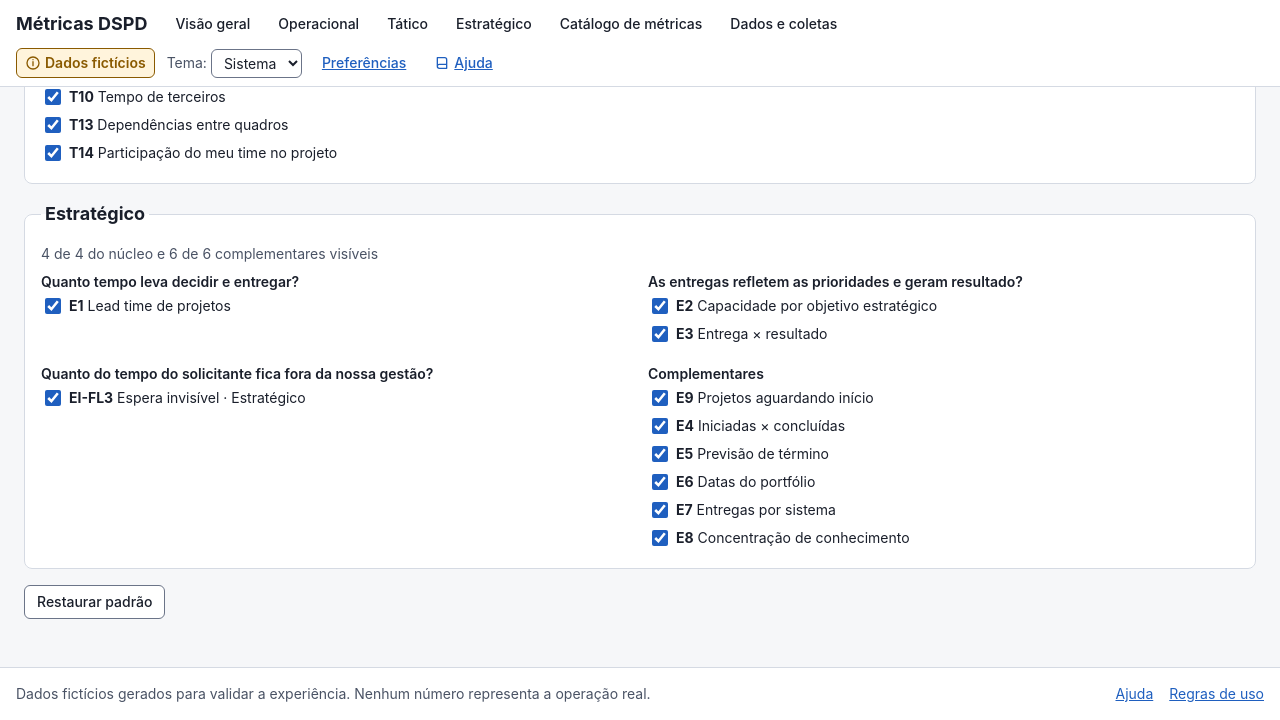
Test case: perfil /preferencias › "Restaurar padrão" pede confirmação nomeando as métricas; cancelar não muda nada
(page scrolled)
Click the button "Restaurar padrão". click: (95, 602)
box: [24,585,166,619]
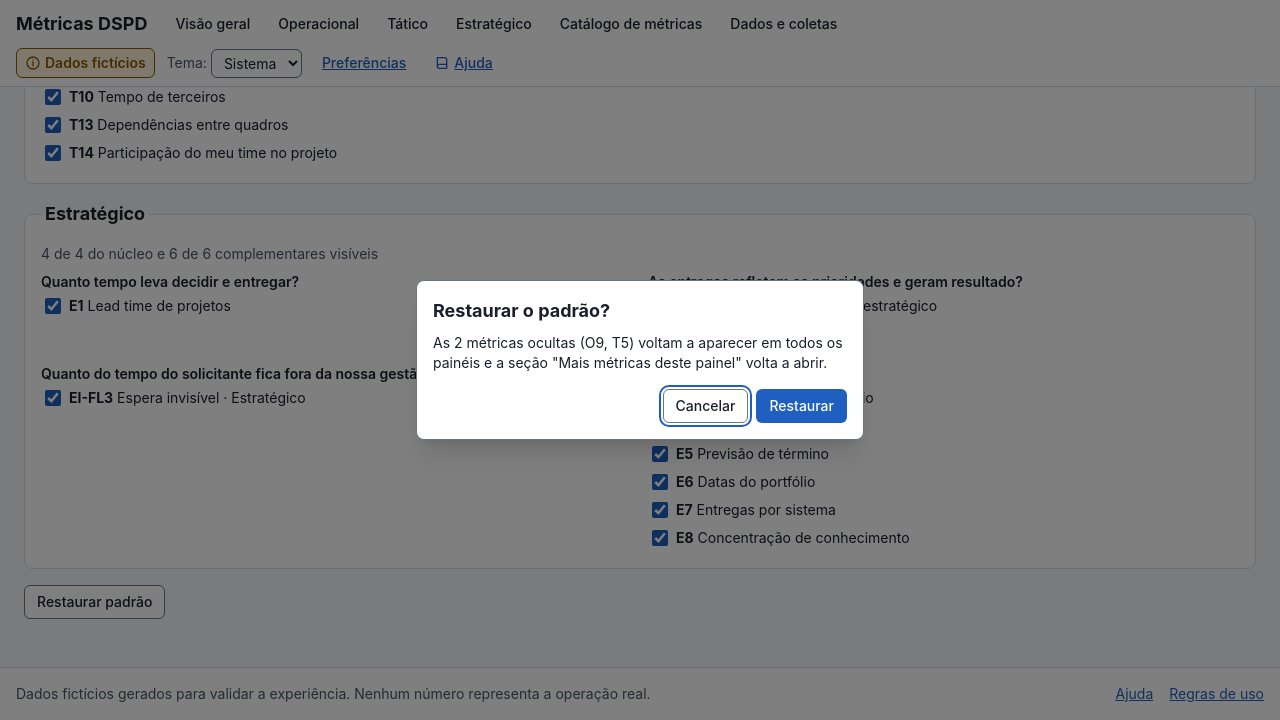
Expected: the dialog "Restaurar o padrão?" shows "As 2 métricas ocultas (O9, T5) voltam a aparecer em todos os painéis e a seção \"Mais métricas deste painel\" volta a abrir.", [416,280,864,440]
Click the button "Cancelar". click: (706, 406)
box: [663,389,748,423]
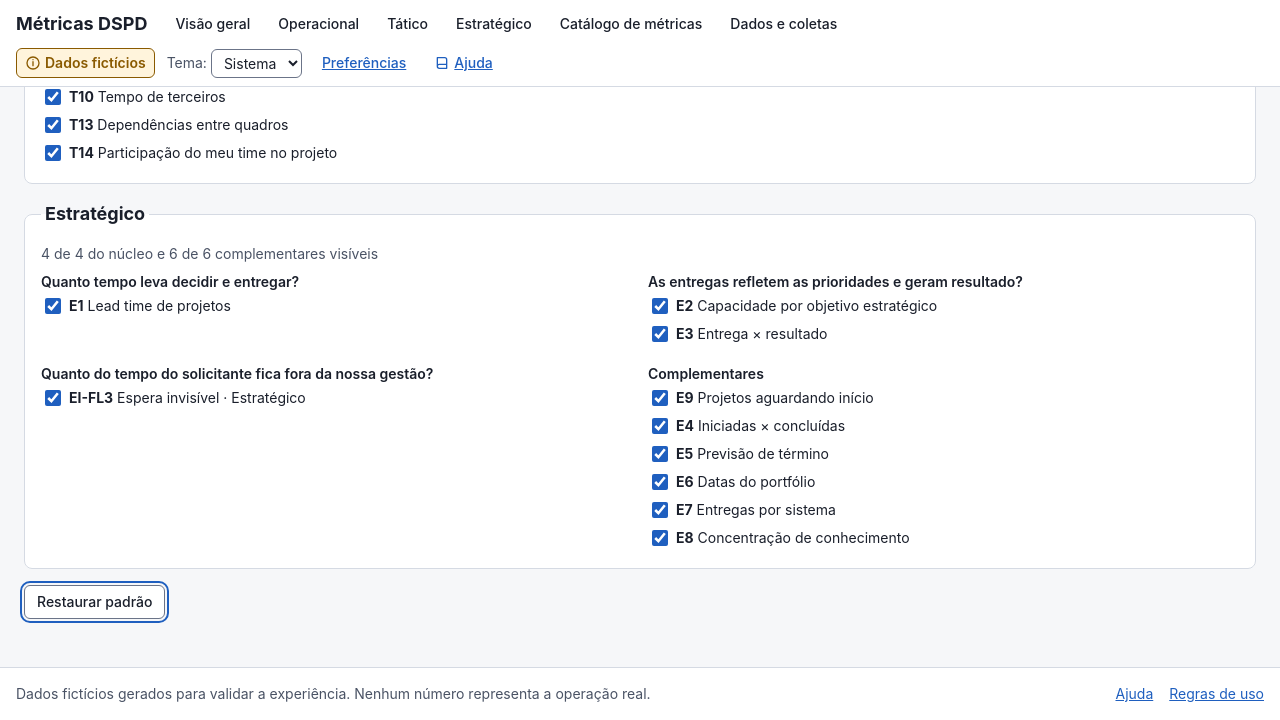
Click the button "Restaurar padrão". click: (95, 602)
box: [24,585,166,619]
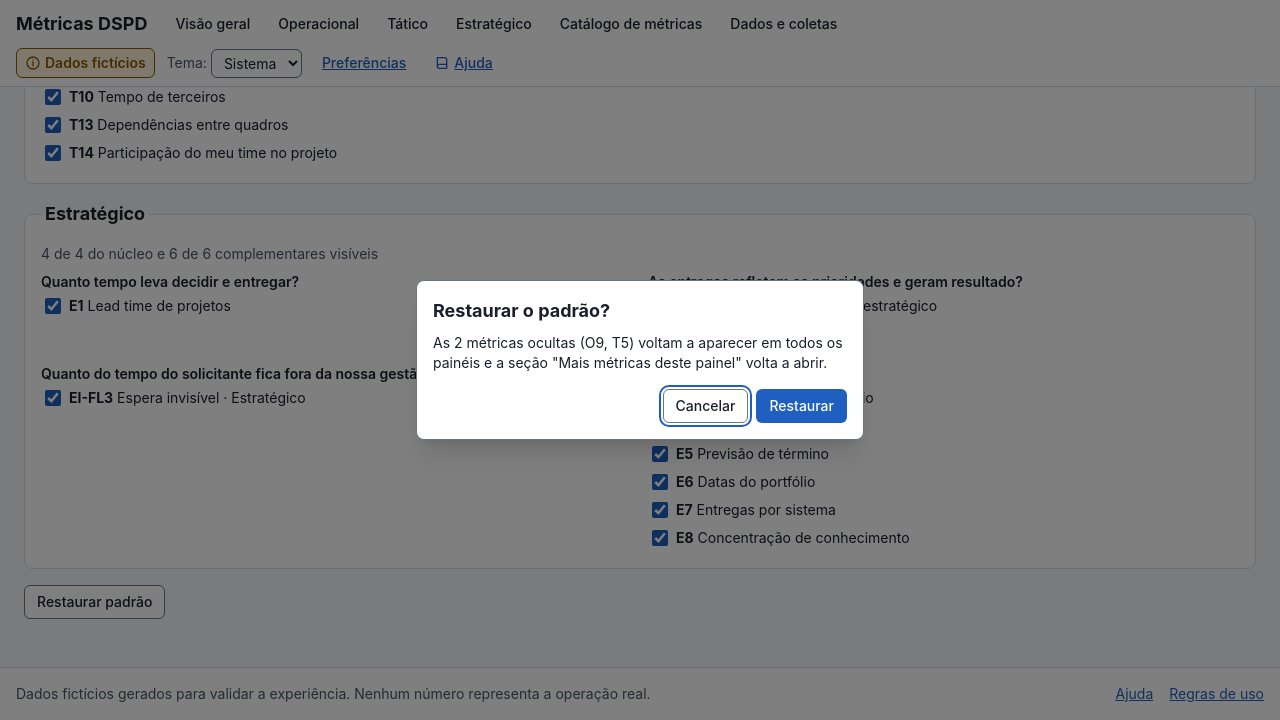
Click the button "Restaurar". click: (802, 406)
box: [756,389,847,423]
(page scrolled)
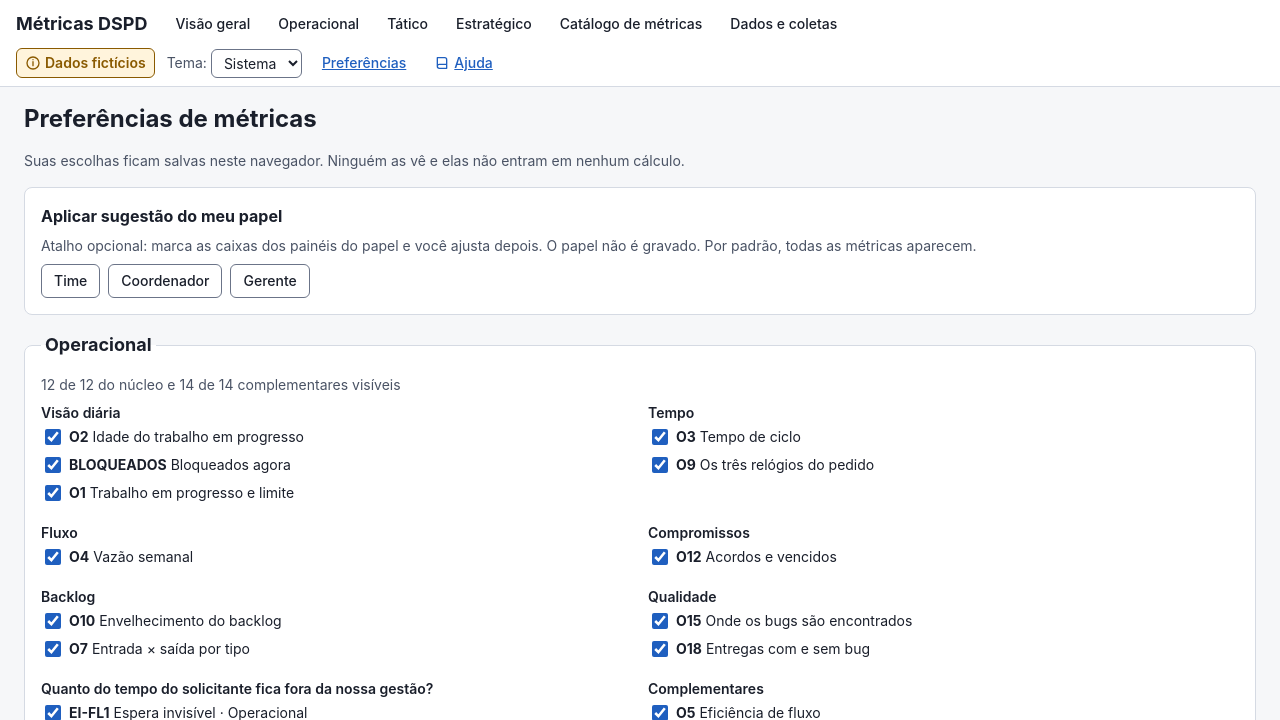
Expected: the text with test id "contador-operacional" reads "12 de 12 do núcleo e 14 de 14 complementares visíveis", [41,376,401,393]
